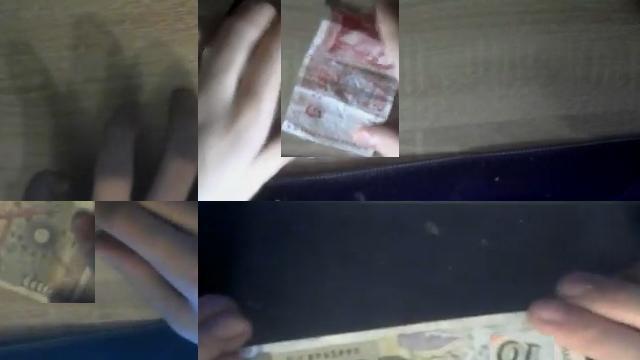10leva: (490, 335, 554, 360)
5leva: (281, 0, 399, 157)
